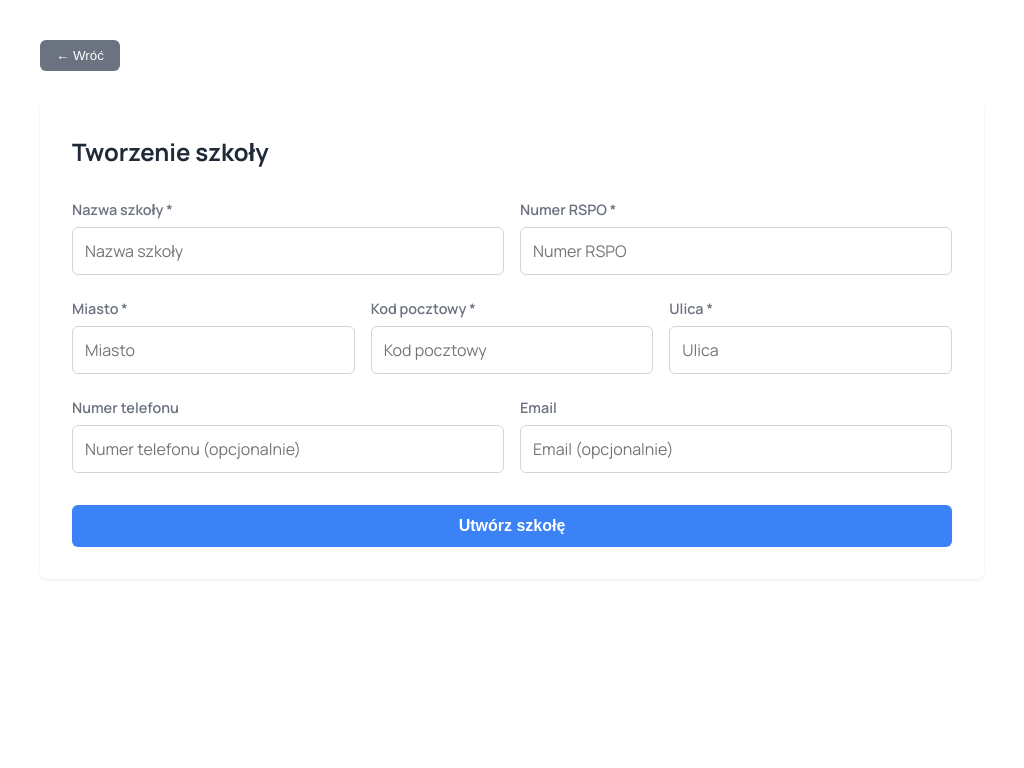
Test case: Create school pages › CreateSchoolPage validates required fields
This screenshot has width=1024, height=768.
Click the button "Utwórz szkołę".
click(512, 526)  # box [72,505,952,547]
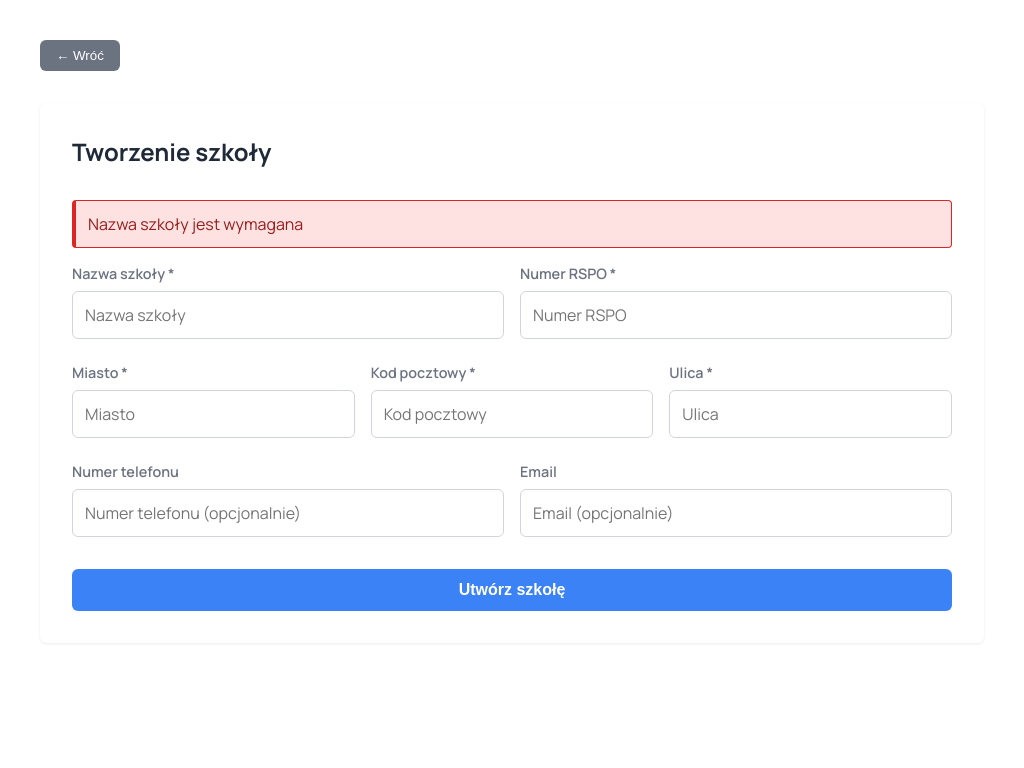
expect the text "Nazwa szkoły jest wymagana" is shown: met, box [72,200,952,248]
